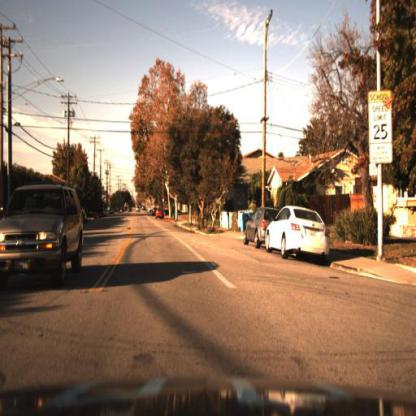car: (1, 180, 85, 297), (264, 205, 333, 265), (244, 205, 284, 249), (244, 202, 269, 251), (156, 208, 168, 222), (134, 205, 147, 217), (150, 207, 158, 219)
